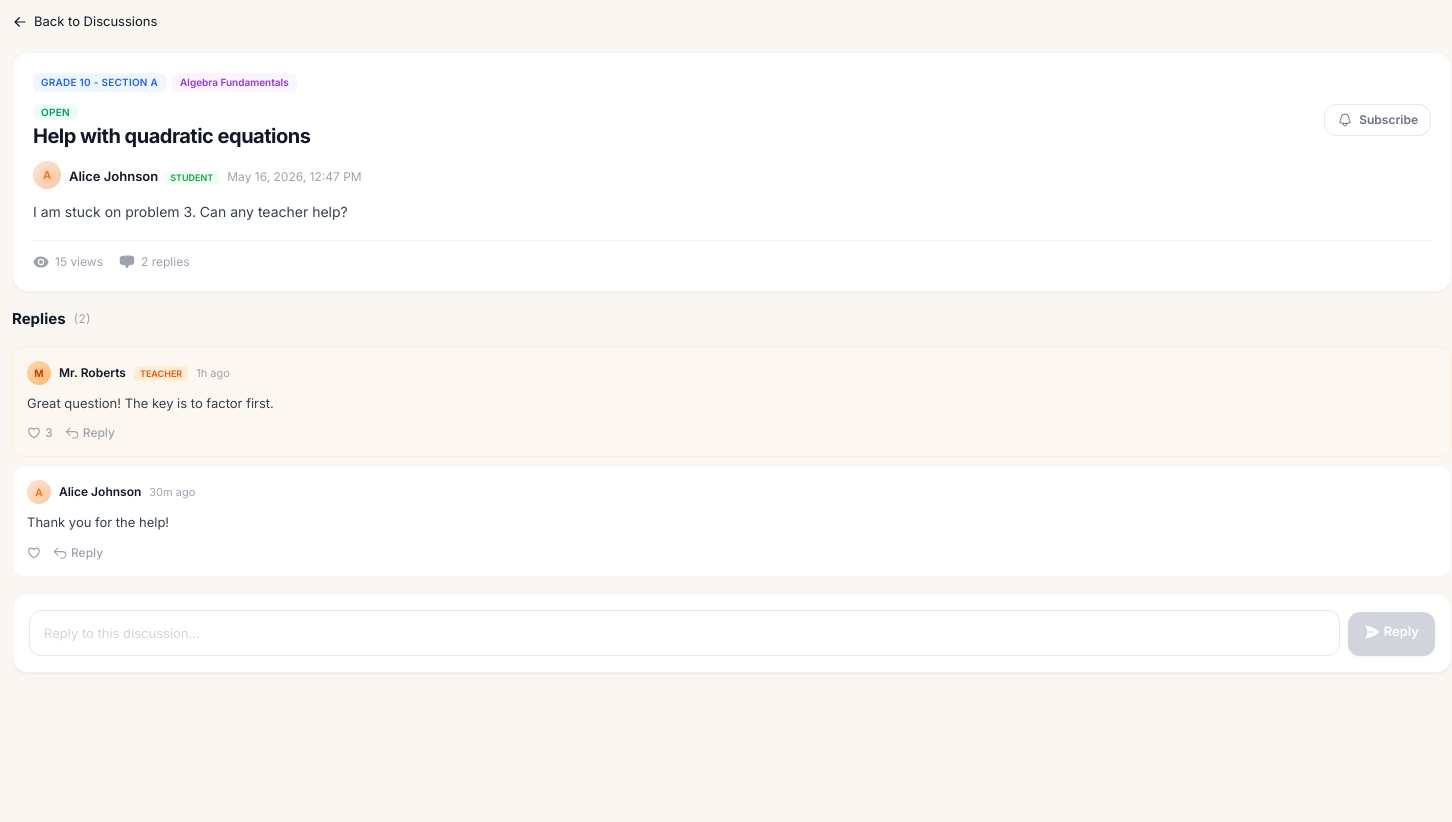
DiscussionThreadPage › shows "Replying to NAME" context after clicking Reply on a reply
Expected: the text "Great question! The key is to factor first." is shown, [27, 395, 274, 411]
Click the button "Reply" below "Mr. Roberts". click: {"x": 90, "y": 433}
box: [65, 424, 115, 442]
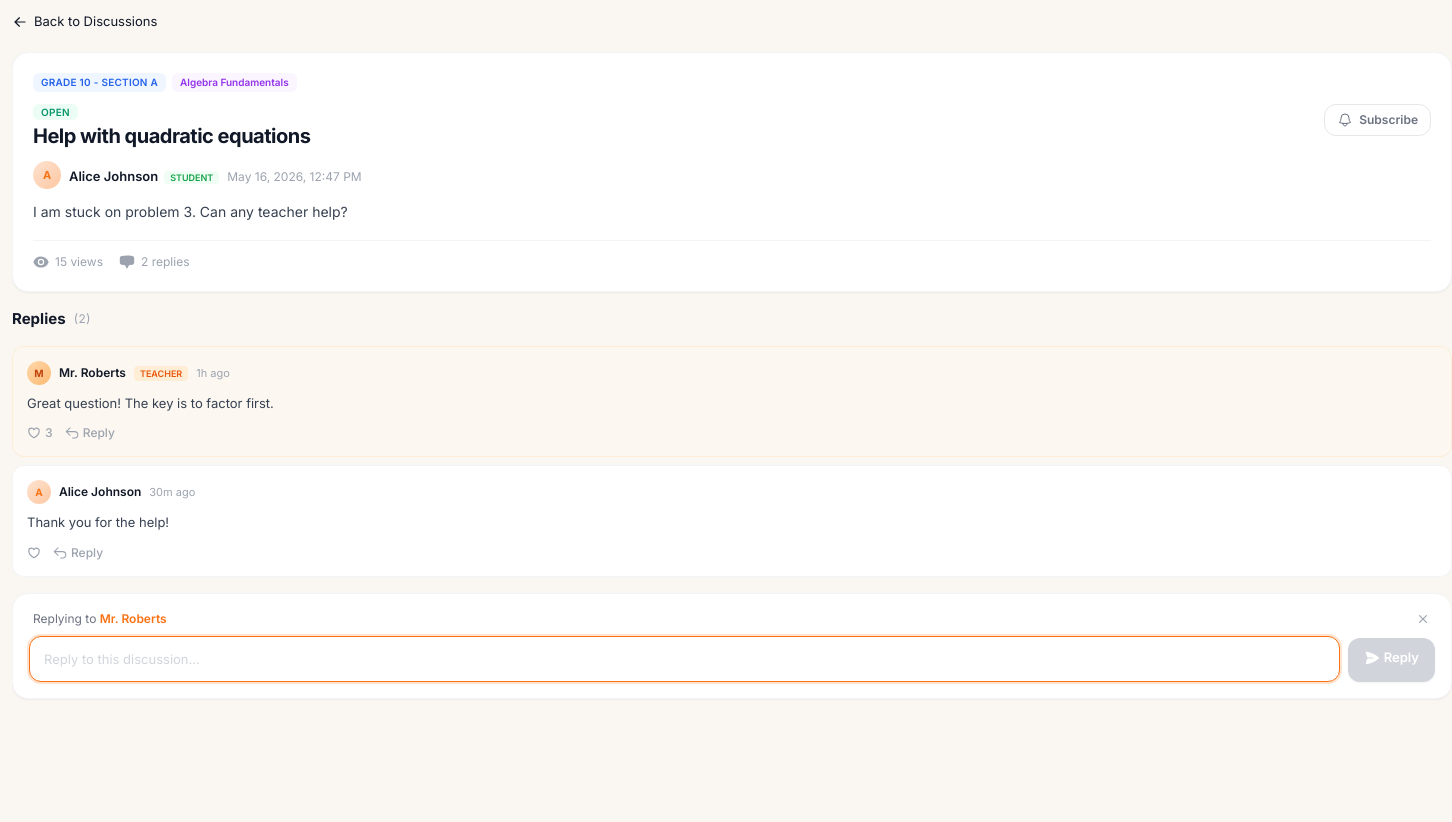
Expected: the text "Replying to Mr. Roberts" is shown, [33, 610, 167, 628]
